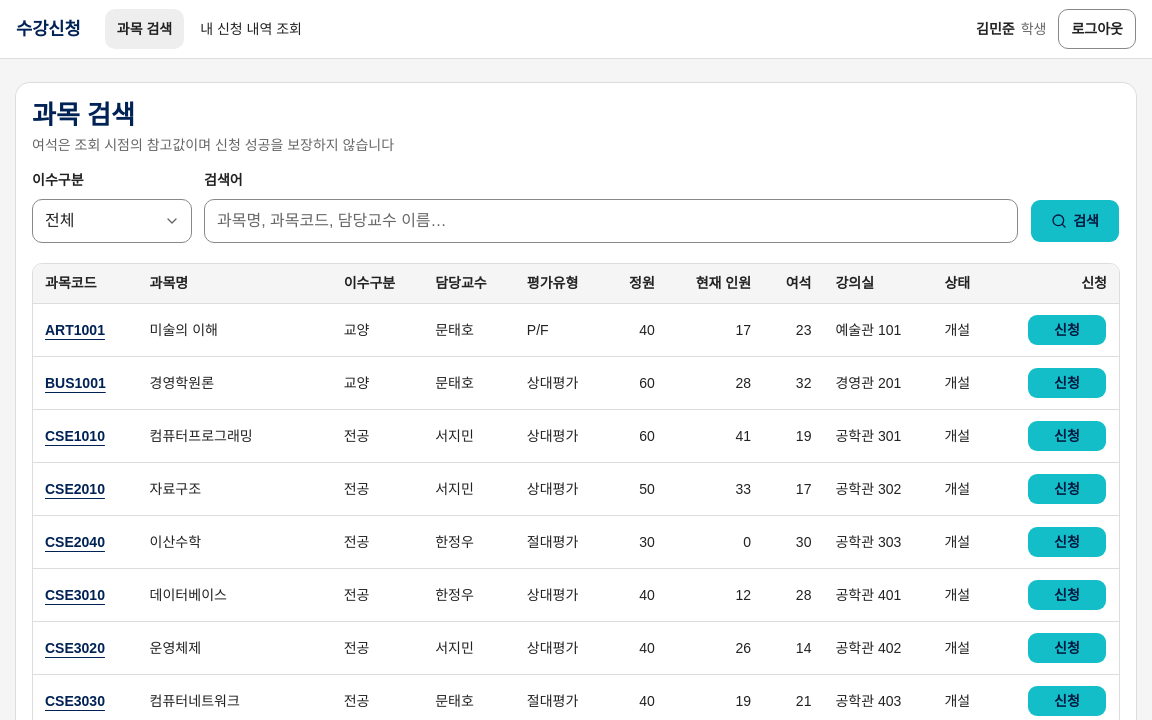
Scenario: T2-16 검색 조건과 빈 결과
The image size is (1152, 720).
Select "전공" in the dropdown labelled "이수구분". click: (112, 221)
box: x1=32 y1=199 x2=192 y2=243
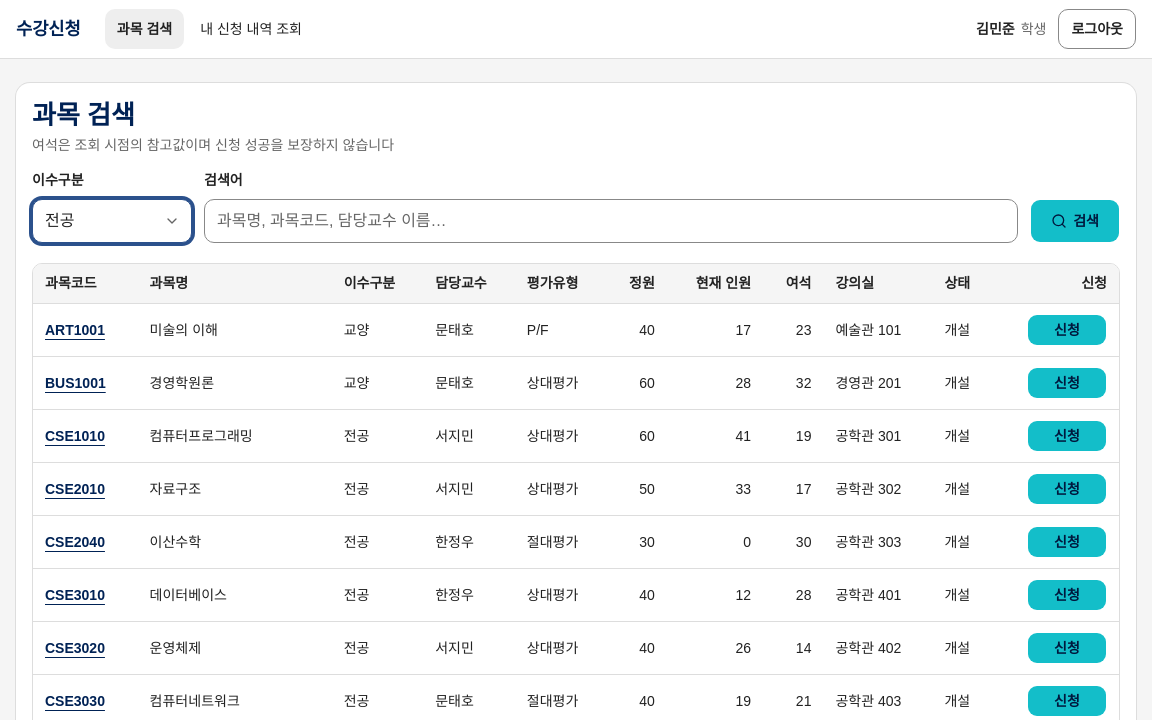
Type "없는과목" into the search field labelled "검색어". click: (611, 221)
box: x1=204 y1=199 x2=1018 y2=243
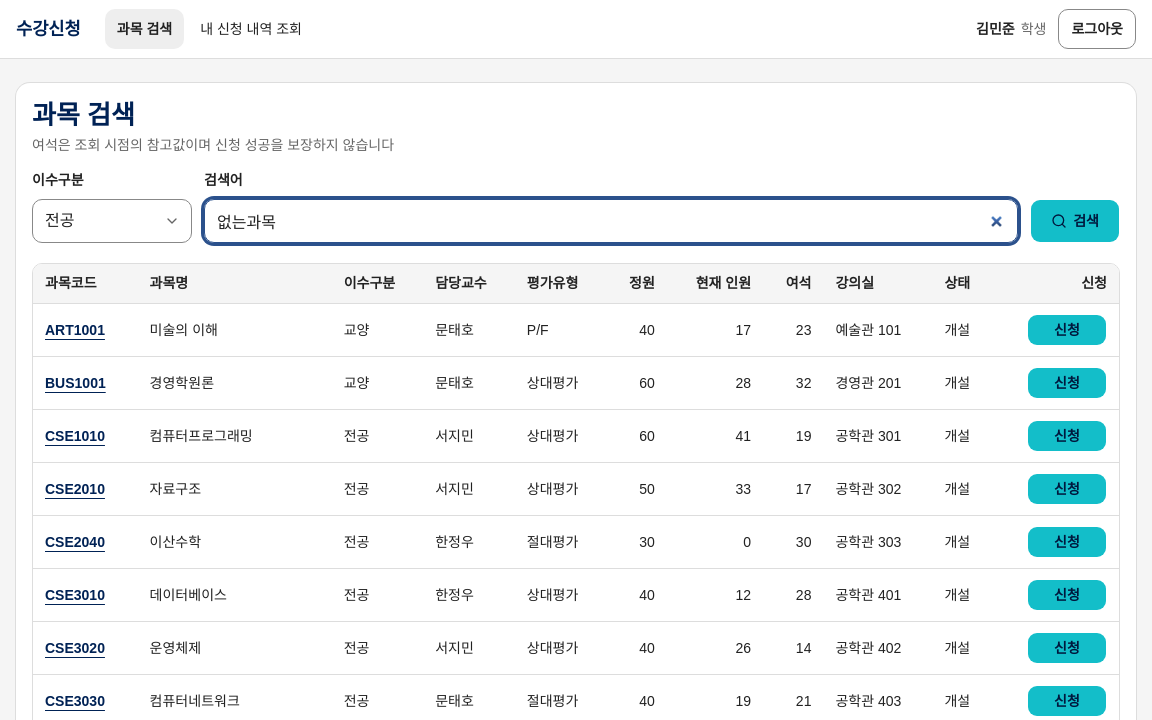
Click the button "검색". click: (1075, 221)
box: x1=1030 y1=199 x2=1120 y2=243
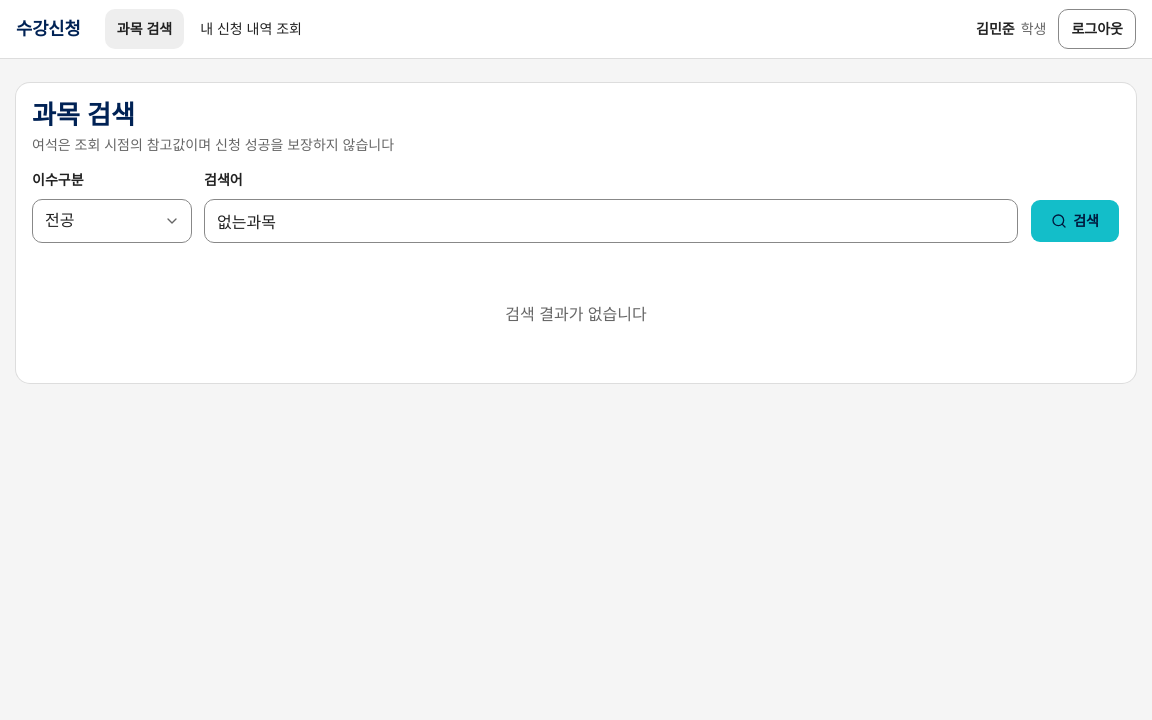
Expected: the text "검색 결과가 없습니다" is shown, x1=505 y1=306 x2=647 y2=323
